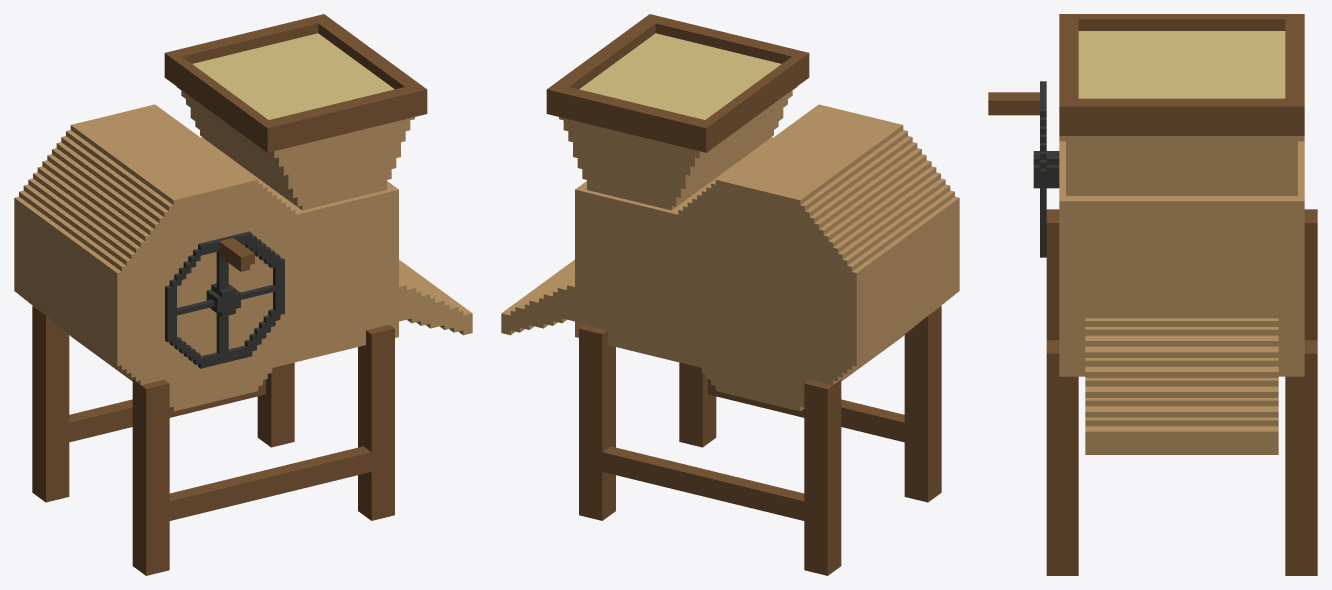
The model's file is fanning_mill.glb.
The picture shows the model from 3 angles, left to right: view 1: azimuth 30°, elevation 25°; view 2: azimuth 150°, elevation 25°; view 3: azimuth 270°, elevation 25°; orthographic projection. The views are drawn at different scales.
Visible parts, largest first — view 1: fanning_mill:compound; view 2: fanning_mill:compound; view 3: fanning_mill:compound.
Boxes of the visible parts, x1,y1,x2,y2 form: fanning_mill:compound: [14, 14, 472, 575]; fanning_mill:compound: [501, 14, 959, 575]; fanning_mill:compound: [988, 14, 1317, 575].
Bounding box in the file's own units: 0.624 × 0.672 × 0.408.
